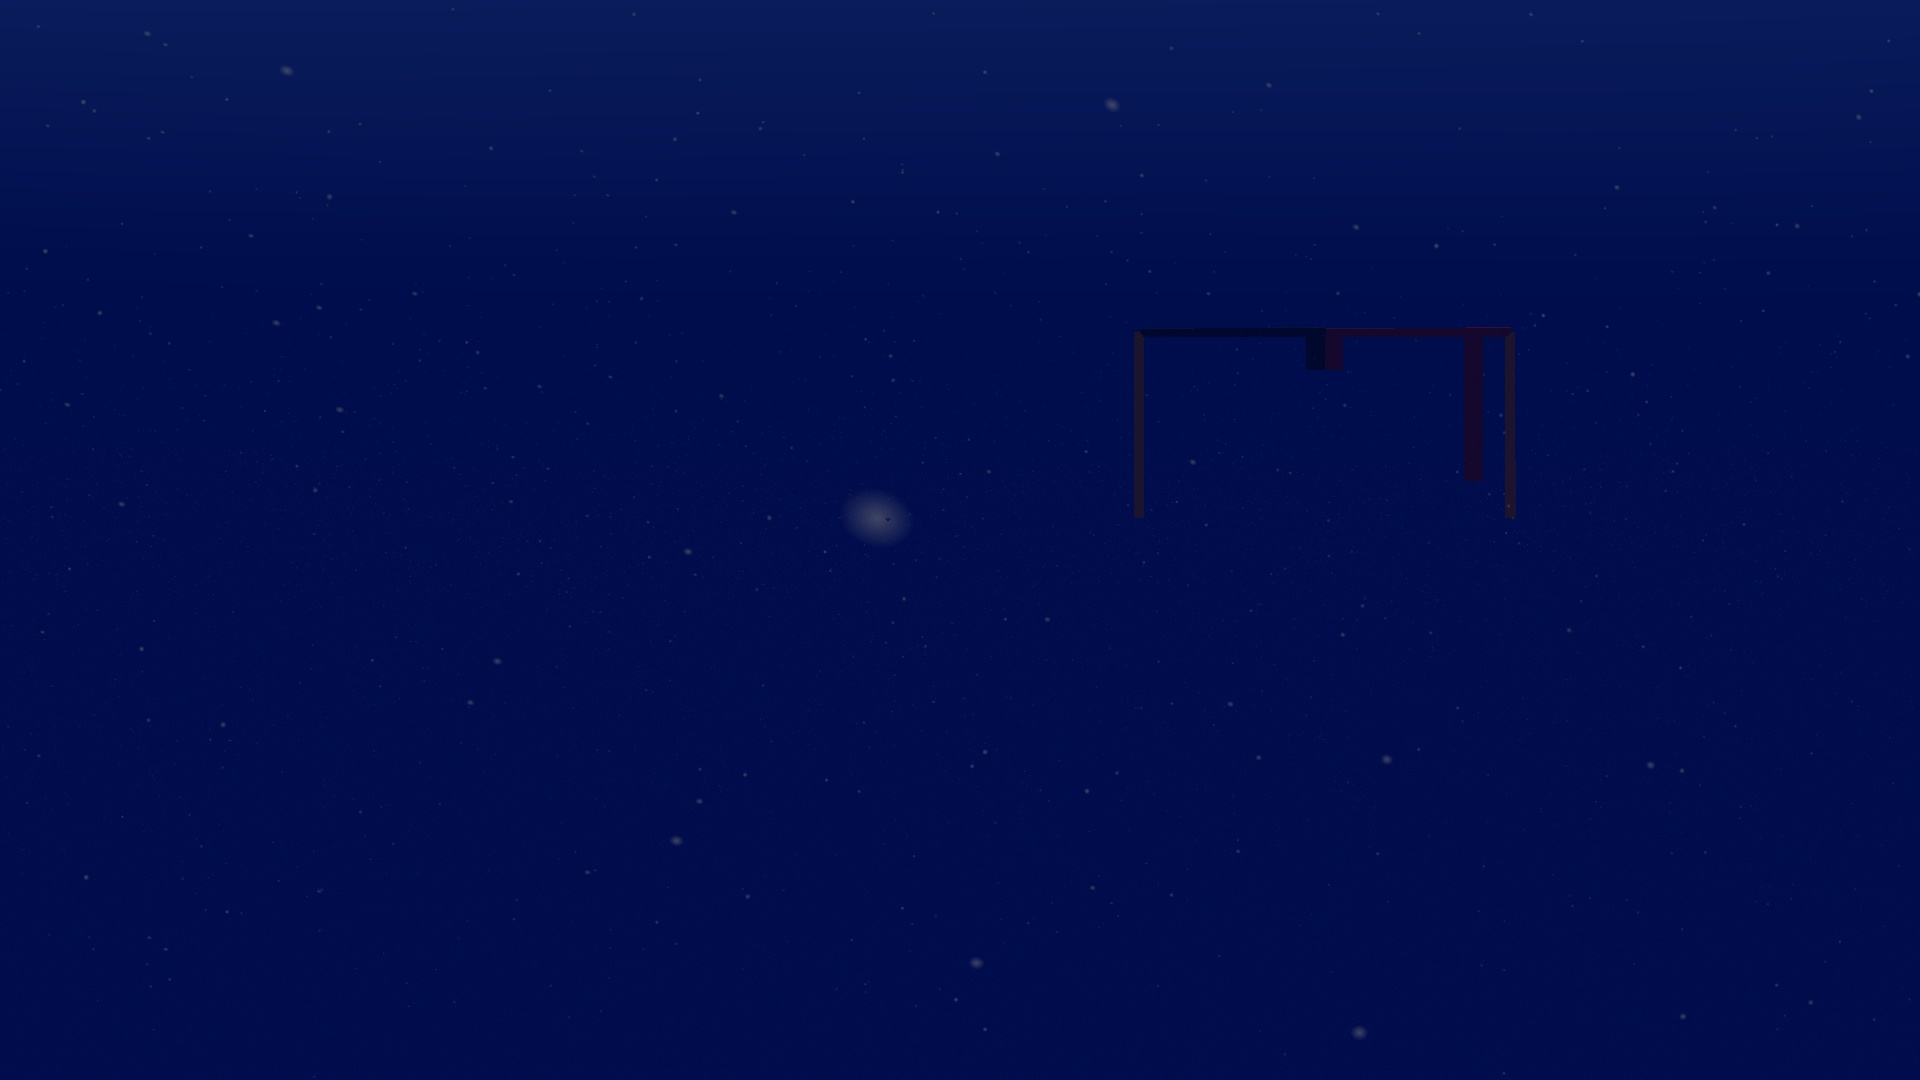Gate: (1125, 322, 1526, 526)
